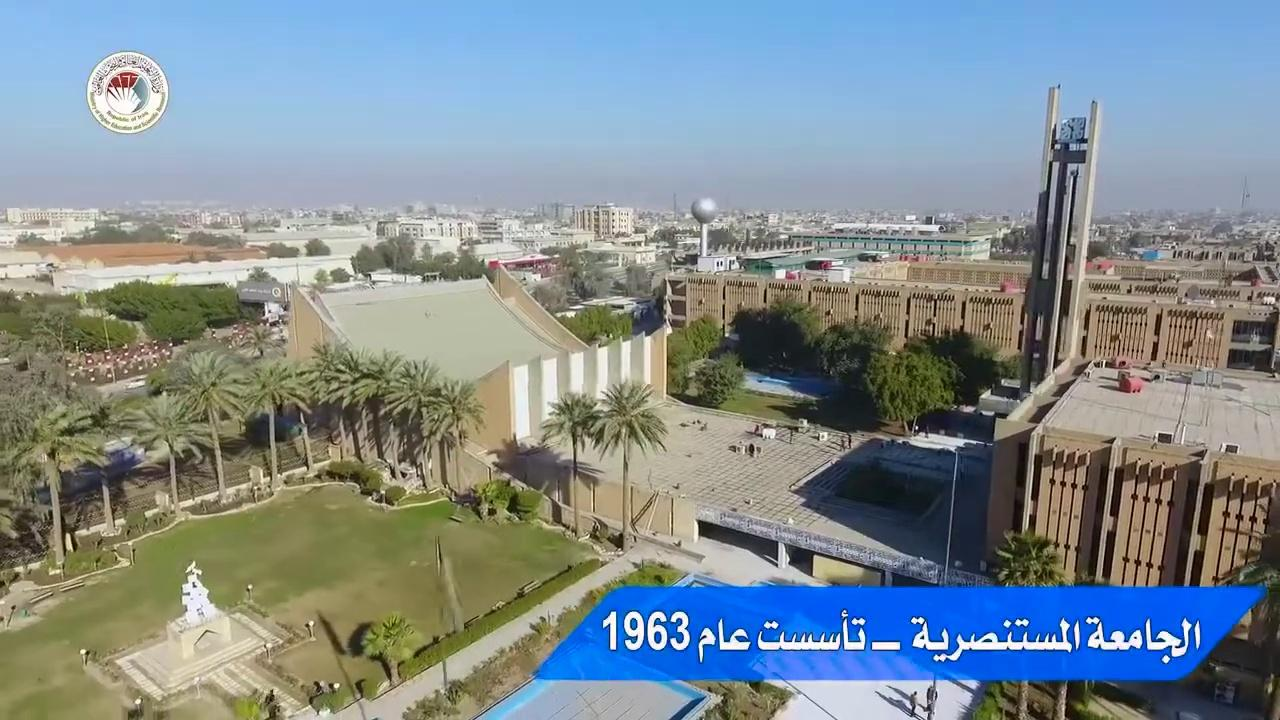car: (33, 436, 146, 504), (73, 436, 145, 480)
fountain: (476, 637, 721, 720)
person: (923, 684, 937, 718), (908, 690, 918, 716)
tree: (980, 526, 1077, 718), (1212, 486, 1279, 718), (16, 401, 106, 569), (589, 378, 668, 552), (168, 348, 247, 501), (233, 357, 311, 487), (126, 388, 205, 513), (538, 390, 601, 539), (863, 345, 963, 435), (304, 339, 372, 462), (383, 357, 444, 489), (421, 378, 486, 494), (342, 346, 403, 461), (812, 312, 892, 392), (730, 306, 806, 373), (993, 527, 1073, 586), (360, 611, 415, 685), (554, 302, 633, 347), (688, 350, 744, 408), (349, 243, 385, 276)
